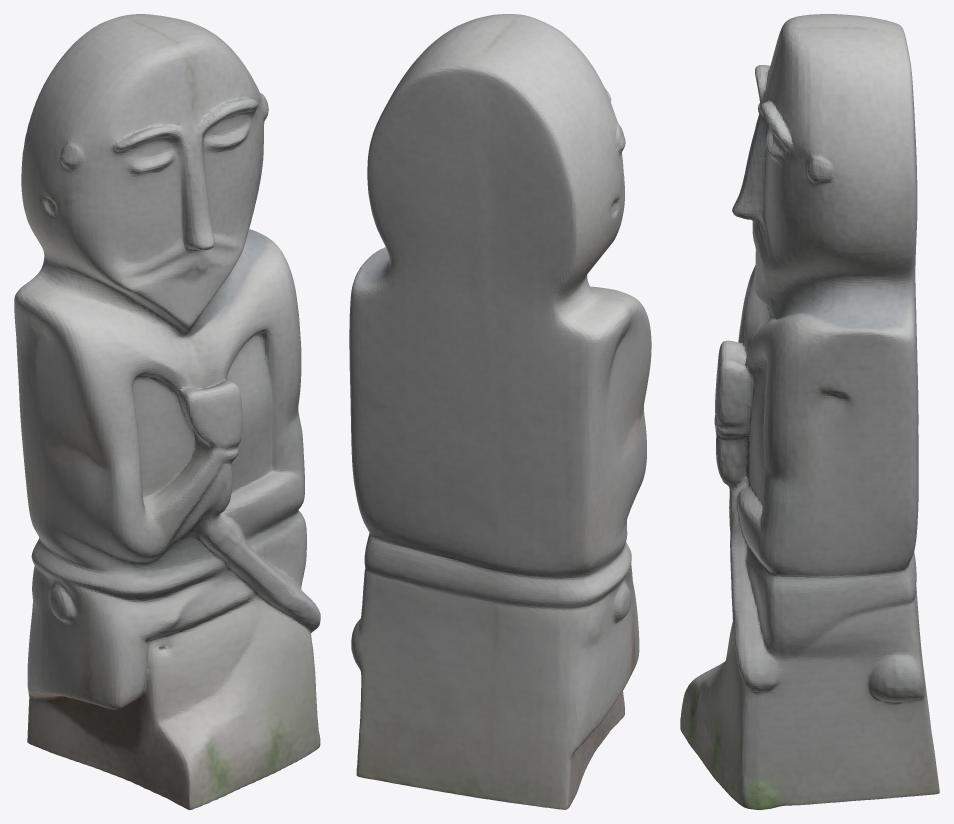
File: A_Stone_Statue.glb
3 views of the same model, side by side, from view 1: azimuth 30°, elevation 25°; view 2: azimuth 150°, elevation 25°; view 3: azimuth 270°, elevation 25° (orthographic). The views are drawn at different scales.
Visible parts, largest first — view 1: A_Stone_Statue; view 2: A_Stone_Statue; view 3: A_Stone_Statue.
Boxes of the visible parts, x1,y1,x2,y2 form: A_Stone_Statue: (14,14,320,809); A_Stone_Statue: (349,14,651,809); A_Stone_Statue: (680,14,939,809).
Size of the model in its own units: 0.3611 by 1 by 0.3254.
